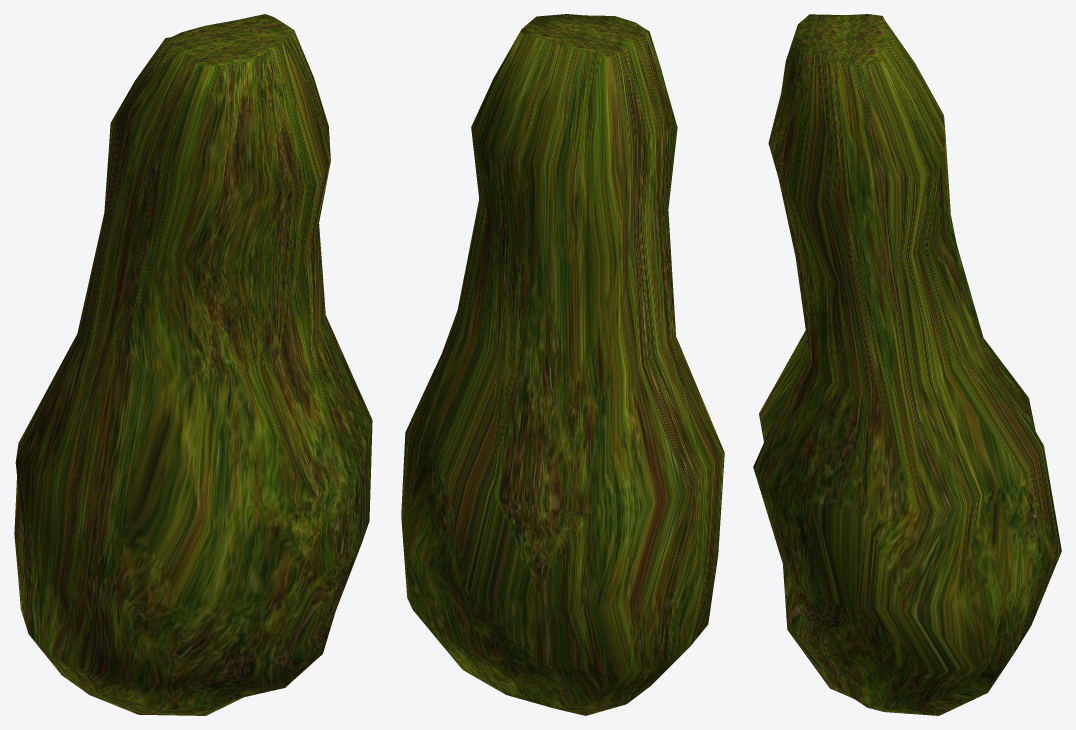
The model's file is LVL_ROAST_MUTTON_ROCK_TILT_PLATFORM.fbx.
3 renders of one model, left to right at view 1: azimuth 30°, elevation 25°; view 2: azimuth 150°, elevation 25°; view 3: azimuth 270°, elevation 25°, orthographic. The views are drawn at different scales.
Visible parts, largest first — view 1: LVL_ROAST_MUTTON_ROCK_TILT_PLATFORM; view 2: LVL_ROAST_MUTTON_ROCK_TILT_PLATFORM; view 3: LVL_ROAST_MUTTON_ROCK_TILT_PLATFORM.
Part boxes in pixels (x1=…): LVL_ROAST_MUTTON_ROCK_TILT_PLATFORM: x1=14, y1=14, x2=372, y2=715; LVL_ROAST_MUTTON_ROCK_TILT_PLATFORM: x1=401, y1=14, x2=724, y2=715; LVL_ROAST_MUTTON_ROCK_TILT_PLATFORM: x1=753, y1=14, x2=1061, y2=715.
Bounding box in the file's own units: 40382 × 82487 × 34758.
Materials: 1 (1 with a texture image).
